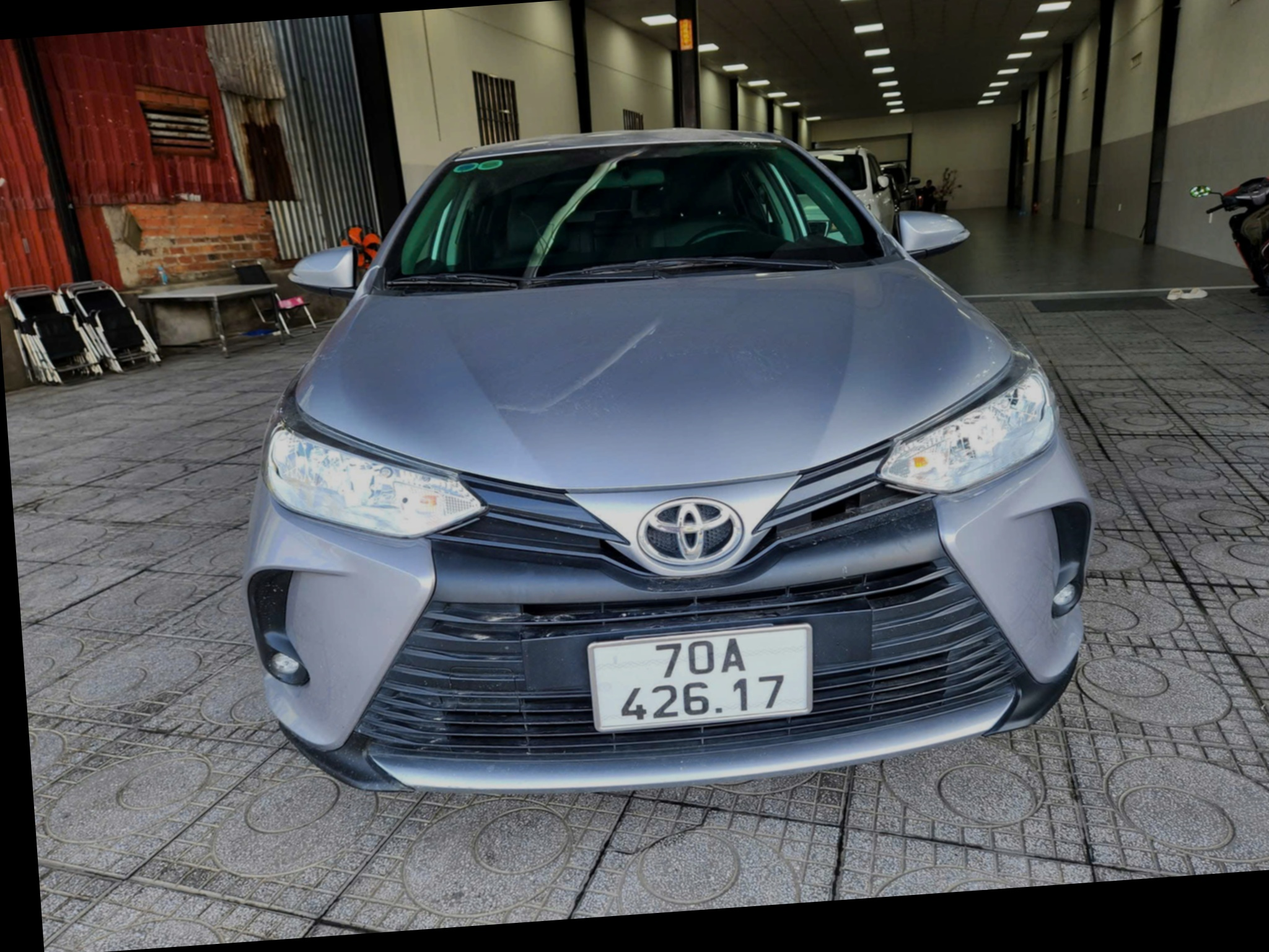Bien-so: (591, 628, 816, 735)
